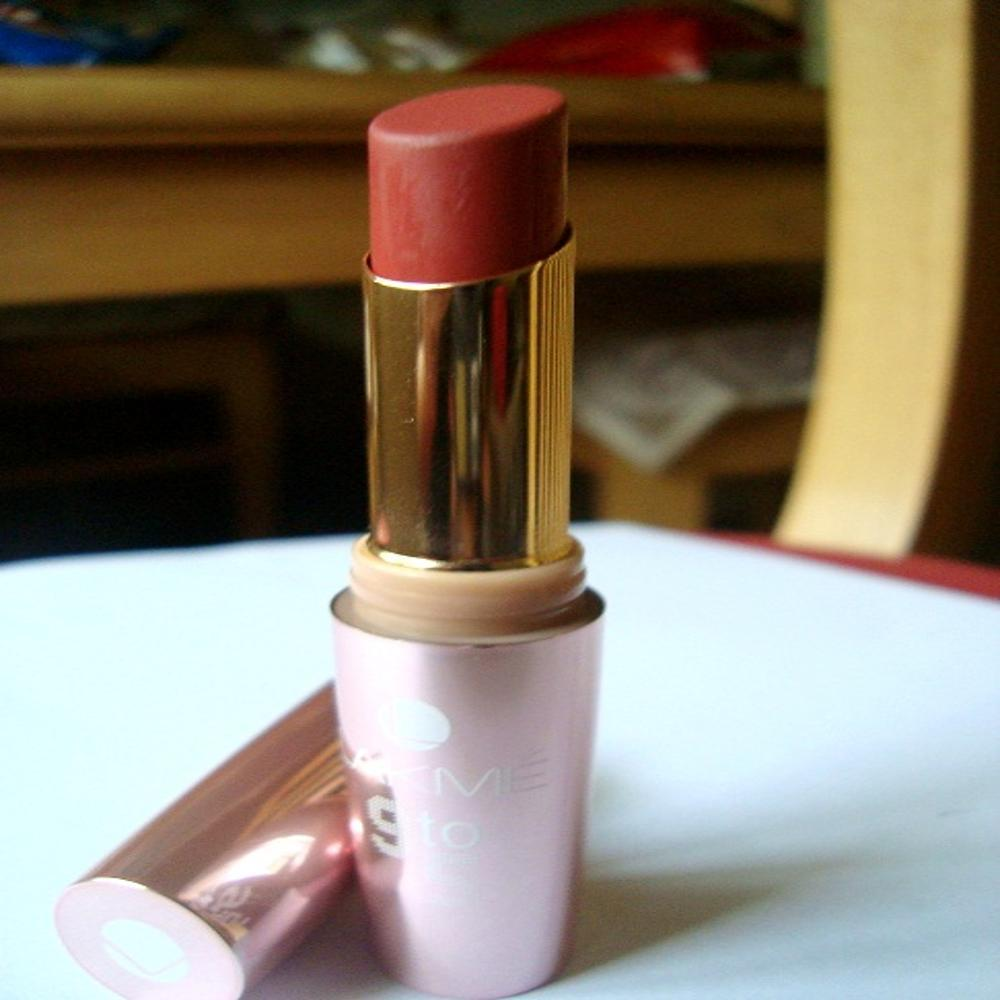lipstick: (334, 88, 645, 940)
